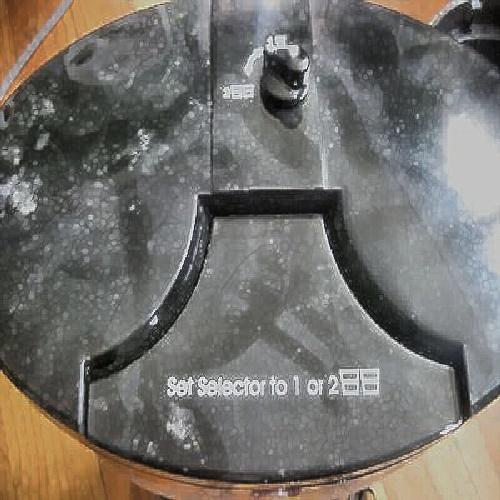coffee_maker: (26, 41, 500, 471)
